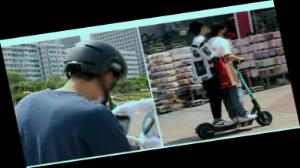multiple: (169, 11, 278, 140)
